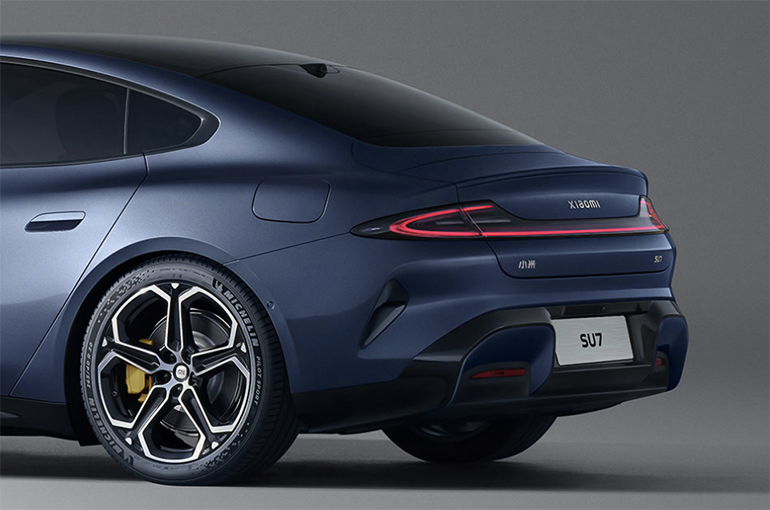su7: (0, 0, 702, 483)
